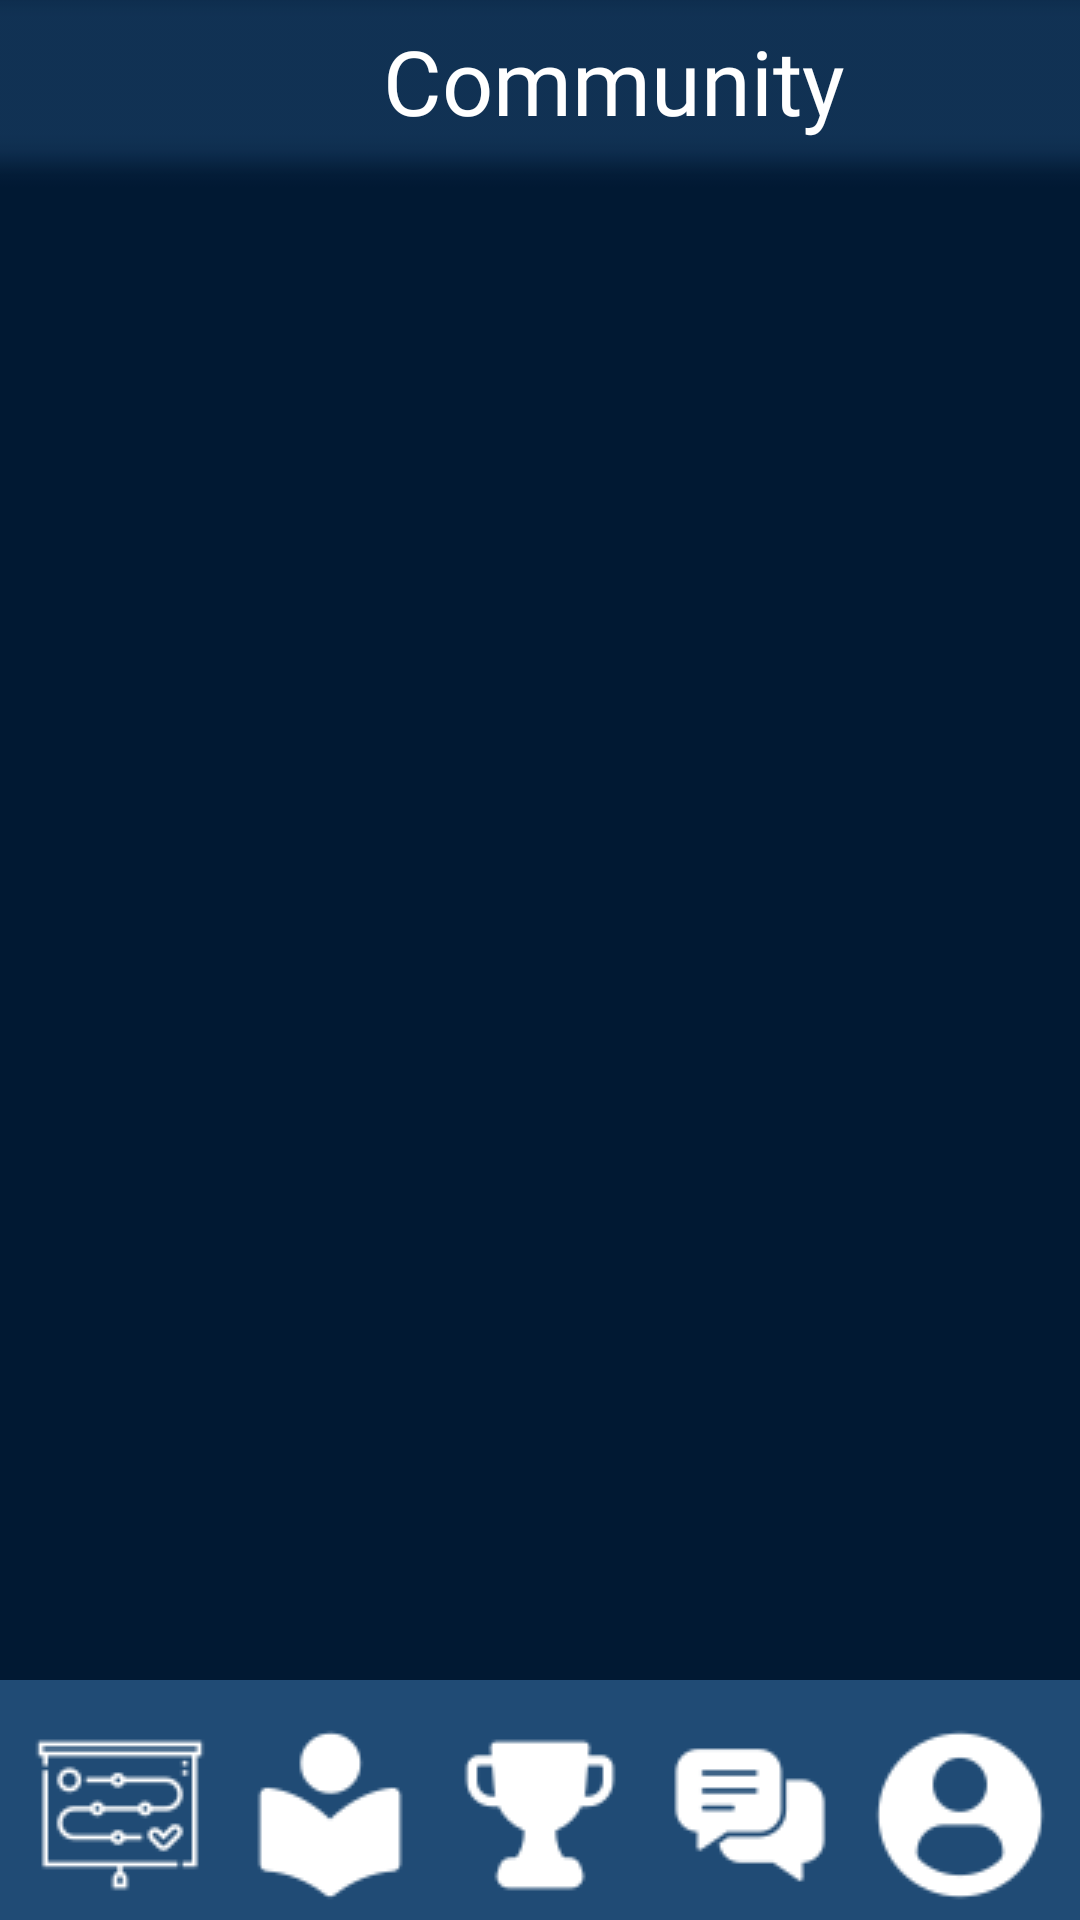

Point at icon controls on the screen. Image size 1080×1920, points as (x=x, y=y).
Articles: (x=330, y=1814)
Forums: (x=750, y=1815)
Leaderboard: (x=540, y=1815)
Profile User: (x=960, y=1815)
Roadmap: (x=120, y=1815)
